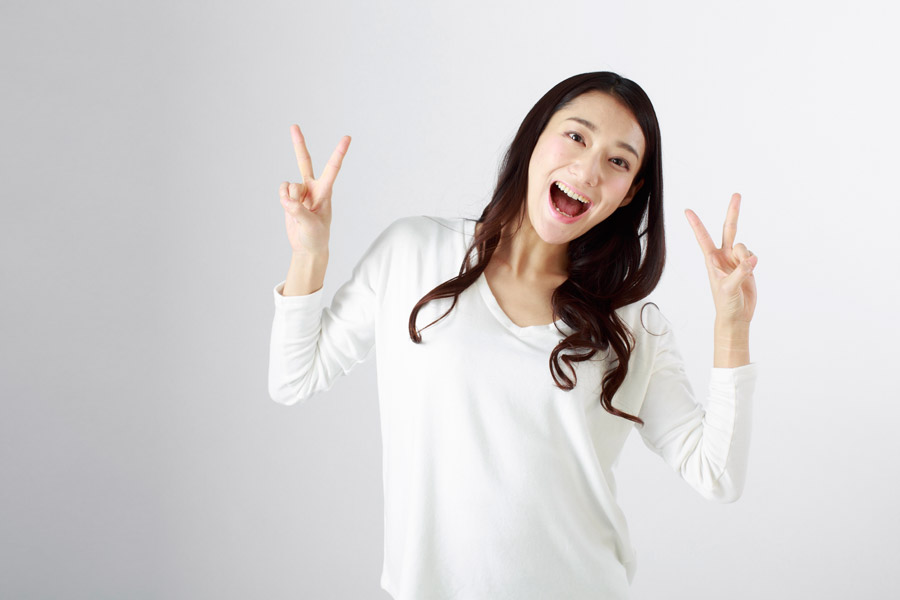face: (525, 90, 647, 245)
hand: (683, 189, 759, 327), (280, 123, 353, 260)
